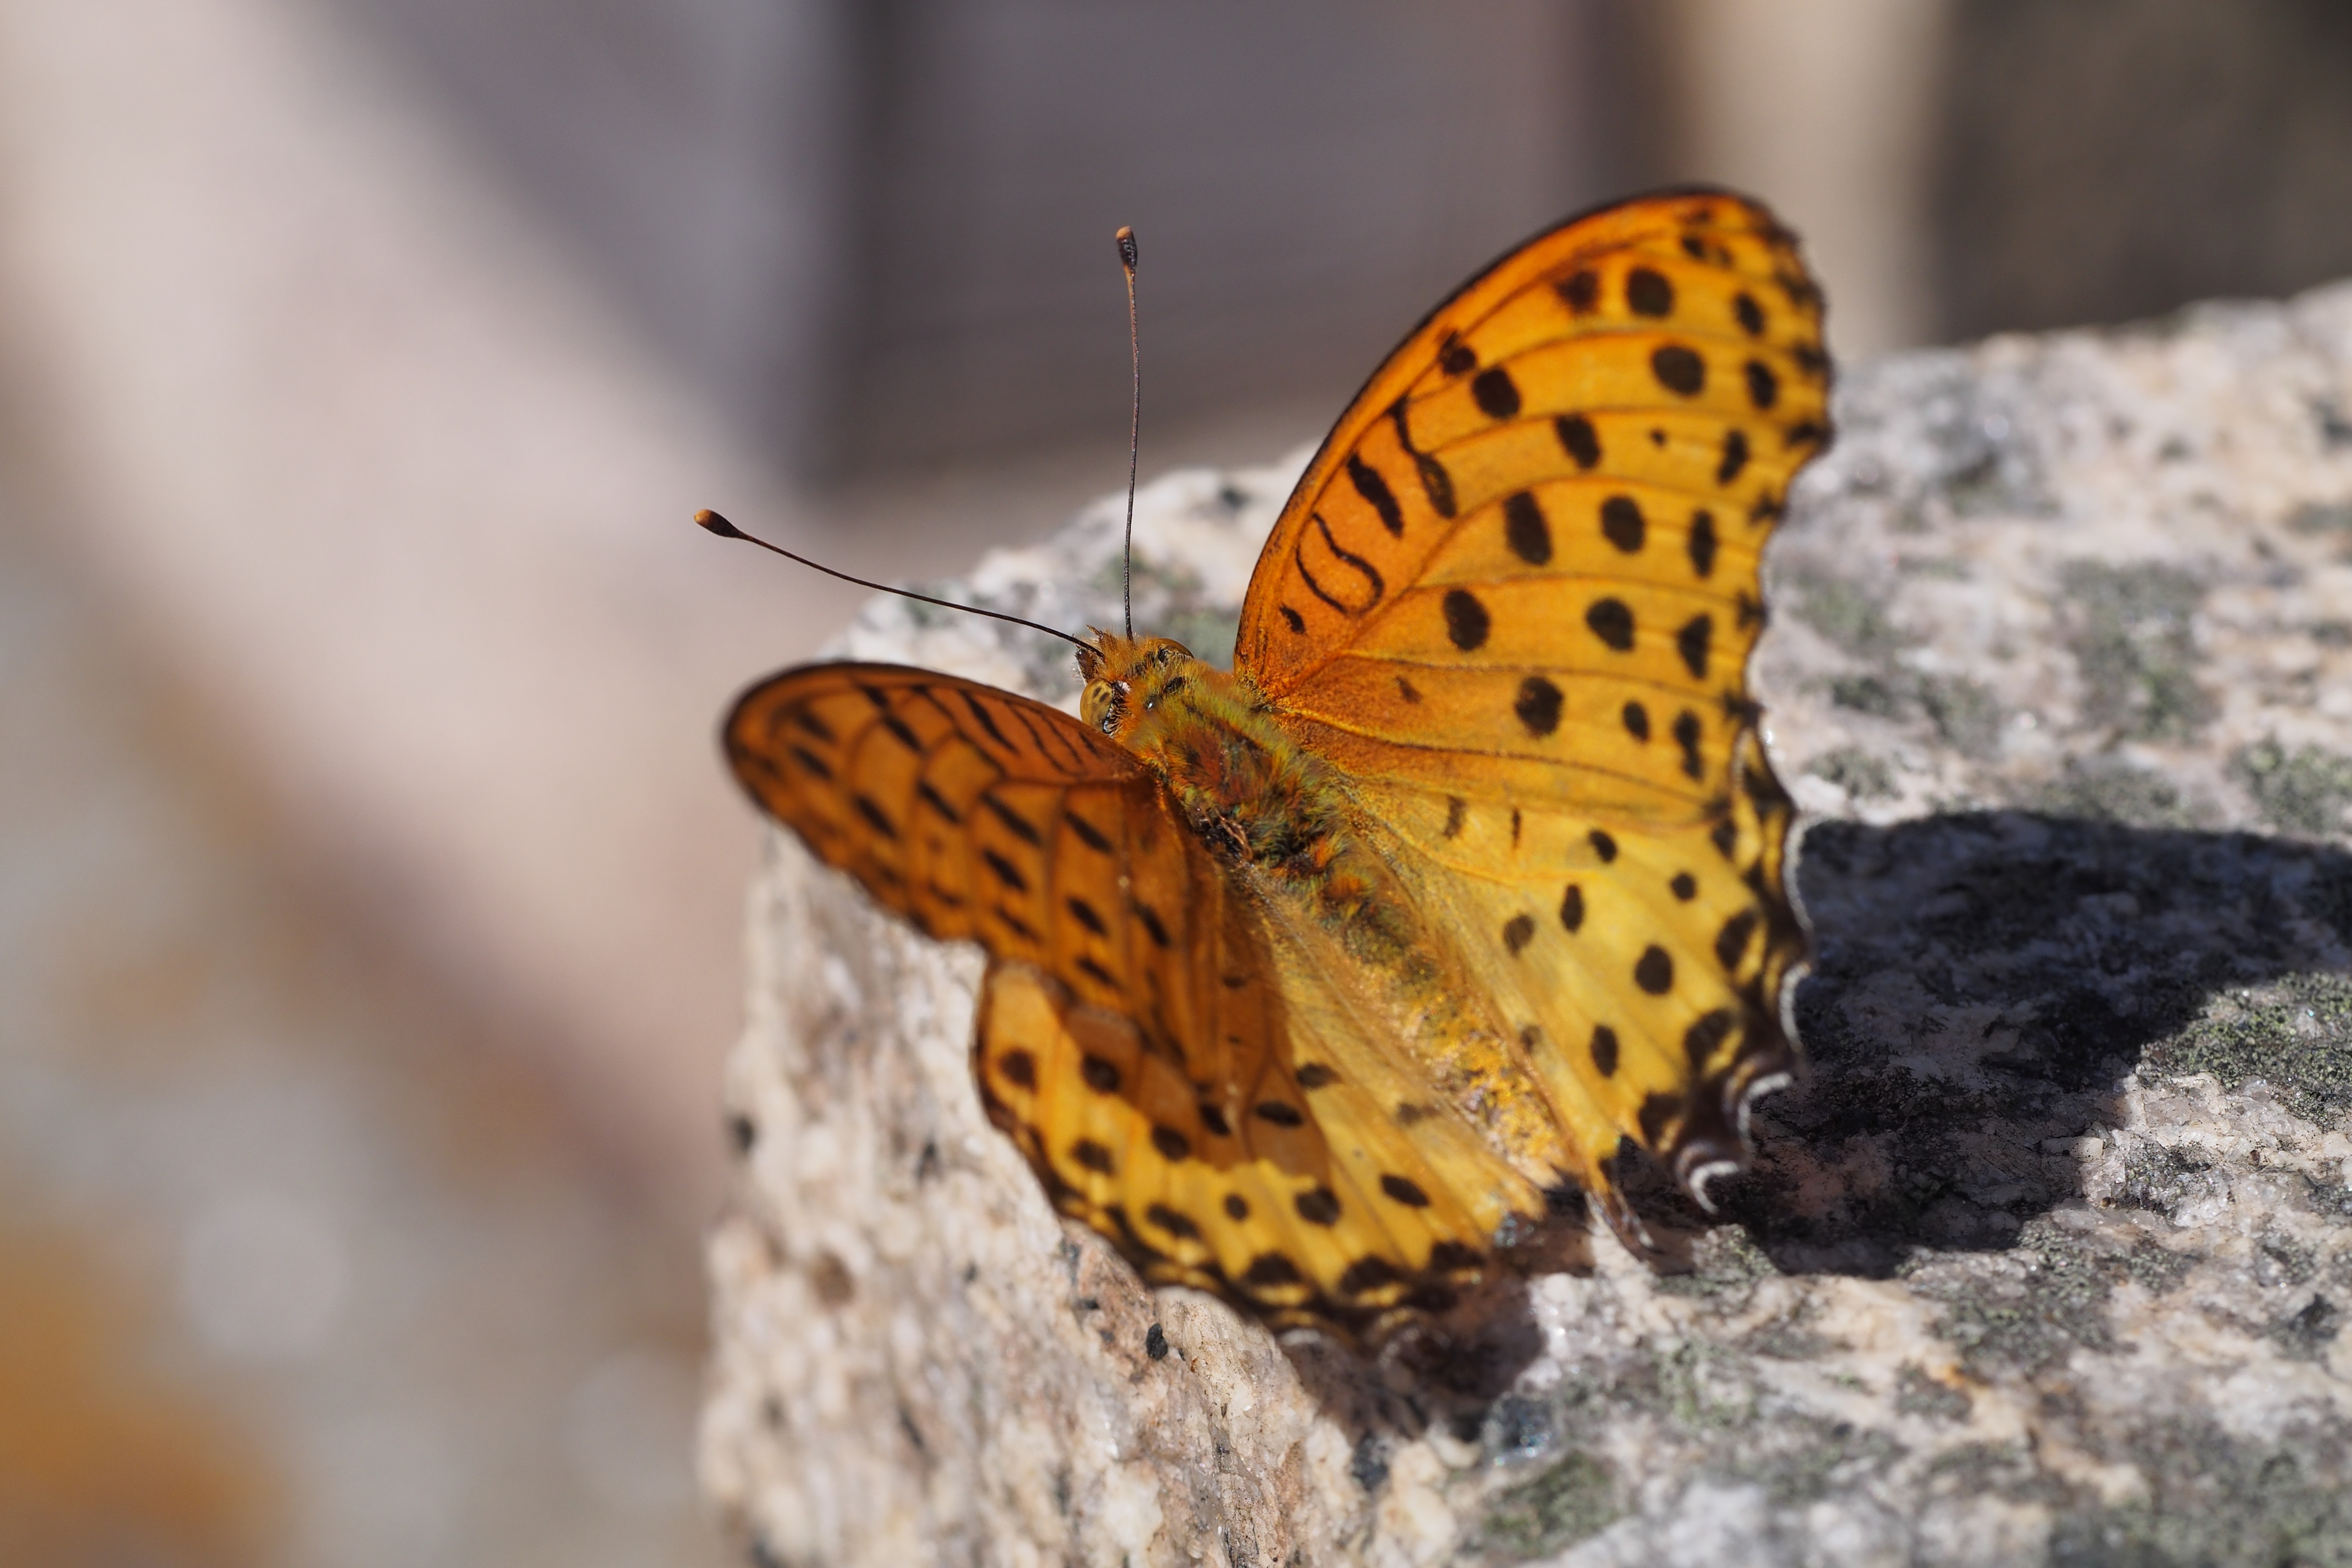Argyreus hyperbius: (677, 166, 1865, 1351)
butterfly: (677, 168, 1867, 1353)
